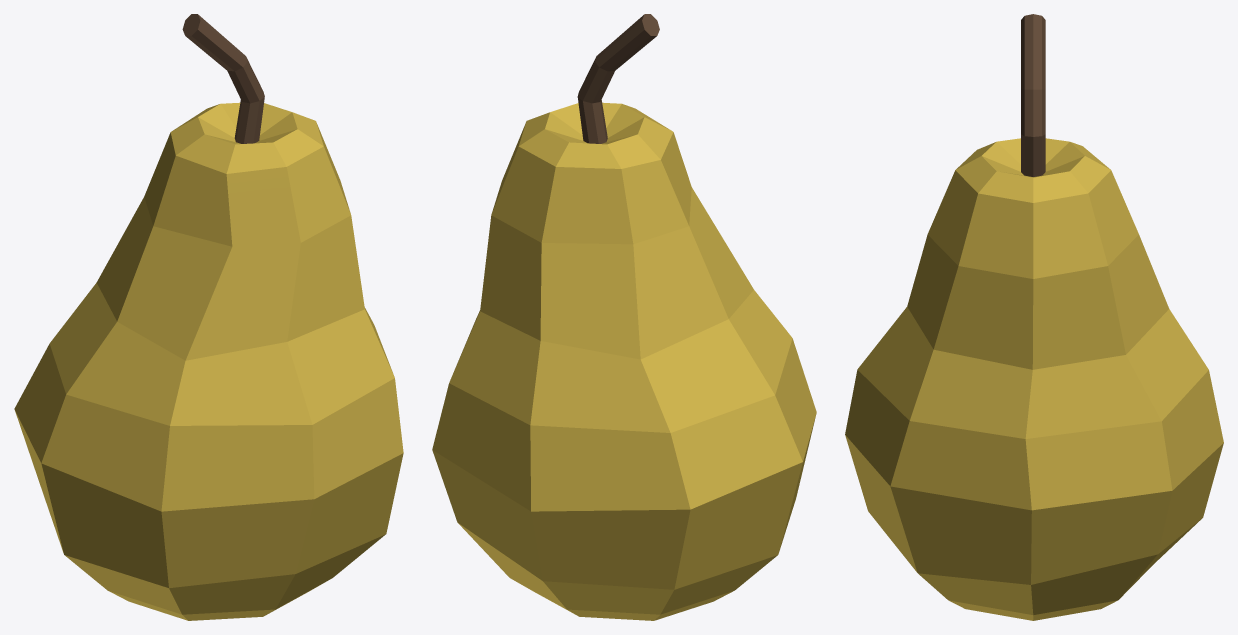
File: Pear_Raw.fbx
3 renders of one model, left to right at view 1: azimuth 30°, elevation 25°; view 2: azimuth 150°, elevation 25°; view 3: azimuth 270°, elevation 25°, orthographic. The views are drawn at different scales.
Visible parts, largest first — view 1: SM_Pear_Raw; view 2: SM_Pear_Raw; view 3: SM_Pear_Raw.
Part boxes in pixels (x1=…): SM_Pear_Raw: x1=14, y1=14, x2=403, y2=620; SM_Pear_Raw: x1=432, y1=14, x2=816, y2=620; SM_Pear_Raw: x1=845, y1=14, x2=1223, y2=620.
Size of the model in its own units: 6.15 by 9.69 by 5.96.
Materials: 1 (1 with a texture image).
